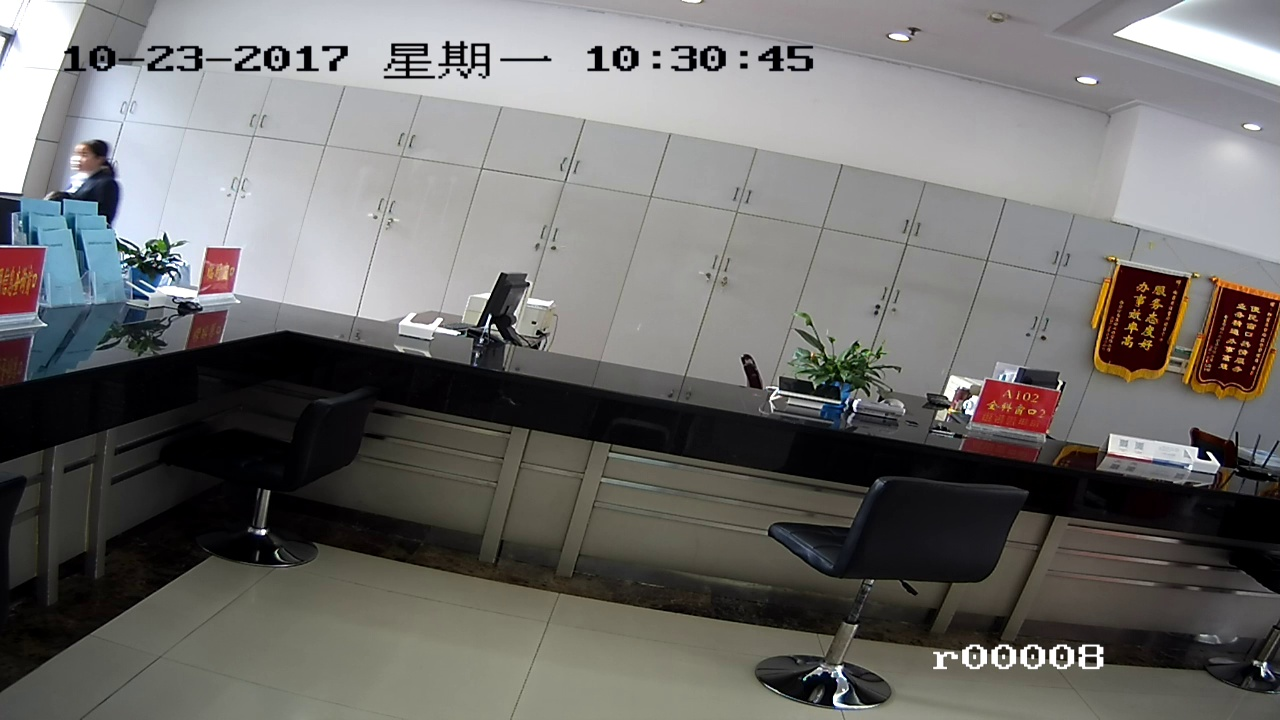billboard: (1099, 260, 1176, 388), (1204, 281, 1262, 391)
chair: (747, 473, 1031, 696), (174, 384, 395, 586)
person: (67, 134, 125, 196)
pot: (792, 323, 902, 419), (120, 230, 185, 284)
